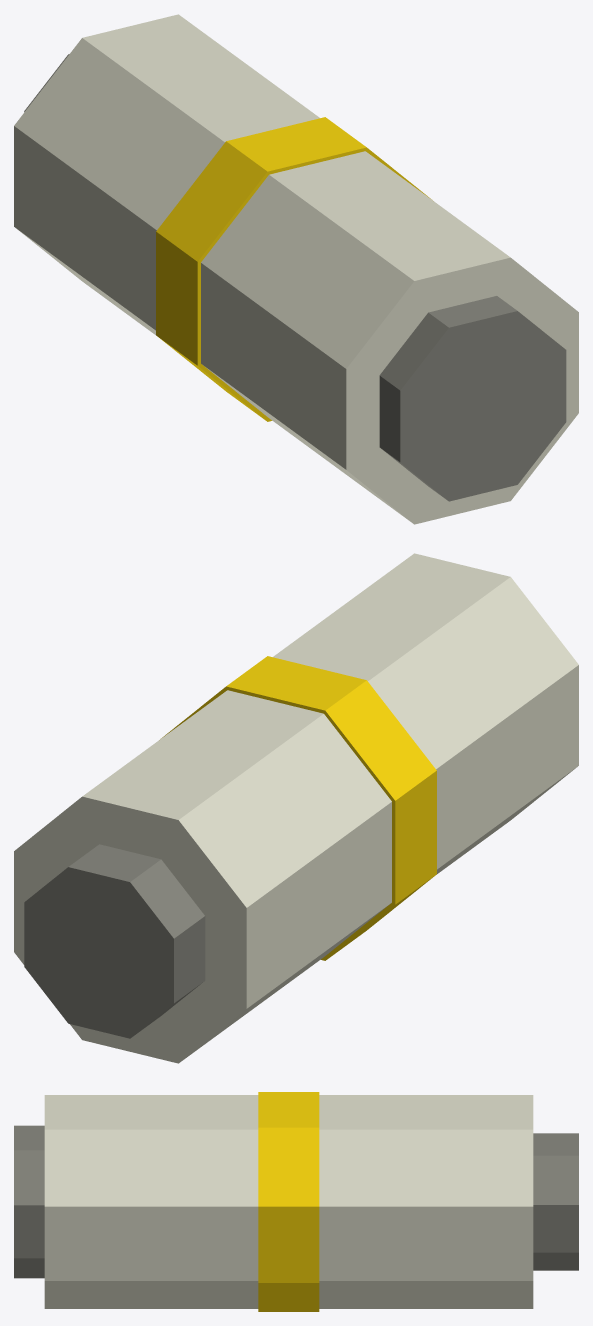
Rendered from ce_ammo_chmag_reg_a.obj.
3 renders of one model, top to bottom at view 1: azimuth 30°, elevation 25°; view 2: azimuth 150°, elevation 25°; view 3: azimuth 270°, elevation 25°, orthographic. The views are drawn at different scales.
Visible parts, largest first — view 1: ce_ammo_chmag_reg_a_1, ce_ammo_chmag_reg_a_3, ce_ammo_chmag_reg_a_0, ce_ammo_chmag_reg_a_2; view 2: ce_ammo_chmag_reg_a_3, ce_ammo_chmag_reg_a_1, ce_ammo_chmag_reg_a_4, ce_ammo_chmag_reg_a_2; view 3: ce_ammo_chmag_reg_a_1, ce_ammo_chmag_reg_a_3, ce_ammo_chmag_reg_a_2, ce_ammo_chmag_reg_a_4, ce_ammo_chmag_reg_a_0.
Part boxes in pixels (bbox=[...]): ce_ammo_chmag_reg_a_1: bbox=[201, 151, 578, 524]; ce_ammo_chmag_reg_a_3: bbox=[14, 14, 319, 335]; ce_ammo_chmag_reg_a_0: bbox=[379, 296, 566, 501]; ce_ammo_chmag_reg_a_2: bbox=[156, 117, 431, 421]; ce_ammo_chmag_reg_a_3: bbox=[14, 690, 391, 1063]; ce_ammo_chmag_reg_a_1: bbox=[273, 553, 578, 874]; ce_ammo_chmag_reg_a_4: bbox=[24, 844, 205, 1038]; ce_ammo_chmag_reg_a_2: bbox=[161, 656, 436, 960]; ce_ammo_chmag_reg_a_1: bbox=[44, 1095, 258, 1308]; ce_ammo_chmag_reg_a_3: bbox=[319, 1095, 533, 1308]; ce_ammo_chmag_reg_a_2: bbox=[258, 1092, 319, 1311]; ce_ammo_chmag_reg_a_4: bbox=[533, 1133, 578, 1270]; ce_ammo_chmag_reg_a_0: bbox=[14, 1125, 44, 1278].
Size of the model in its own units: 0.133 by 0.133 by 0.37.
